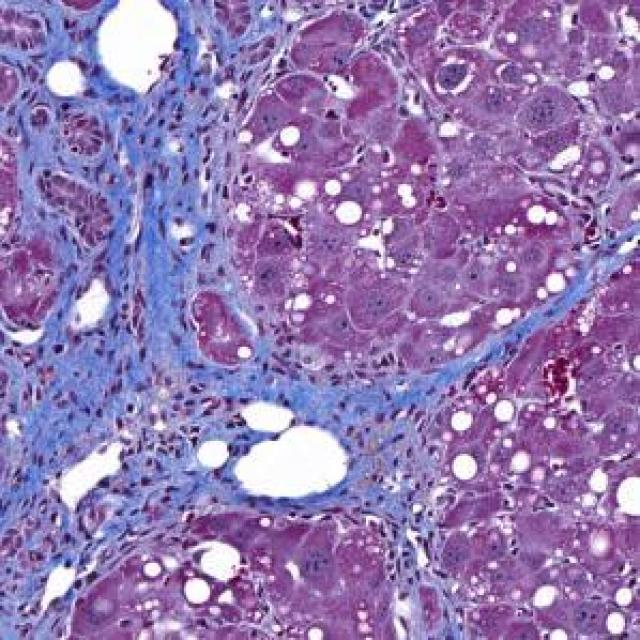fibrosis: (21, 161, 238, 522), (283, 353, 452, 473)
